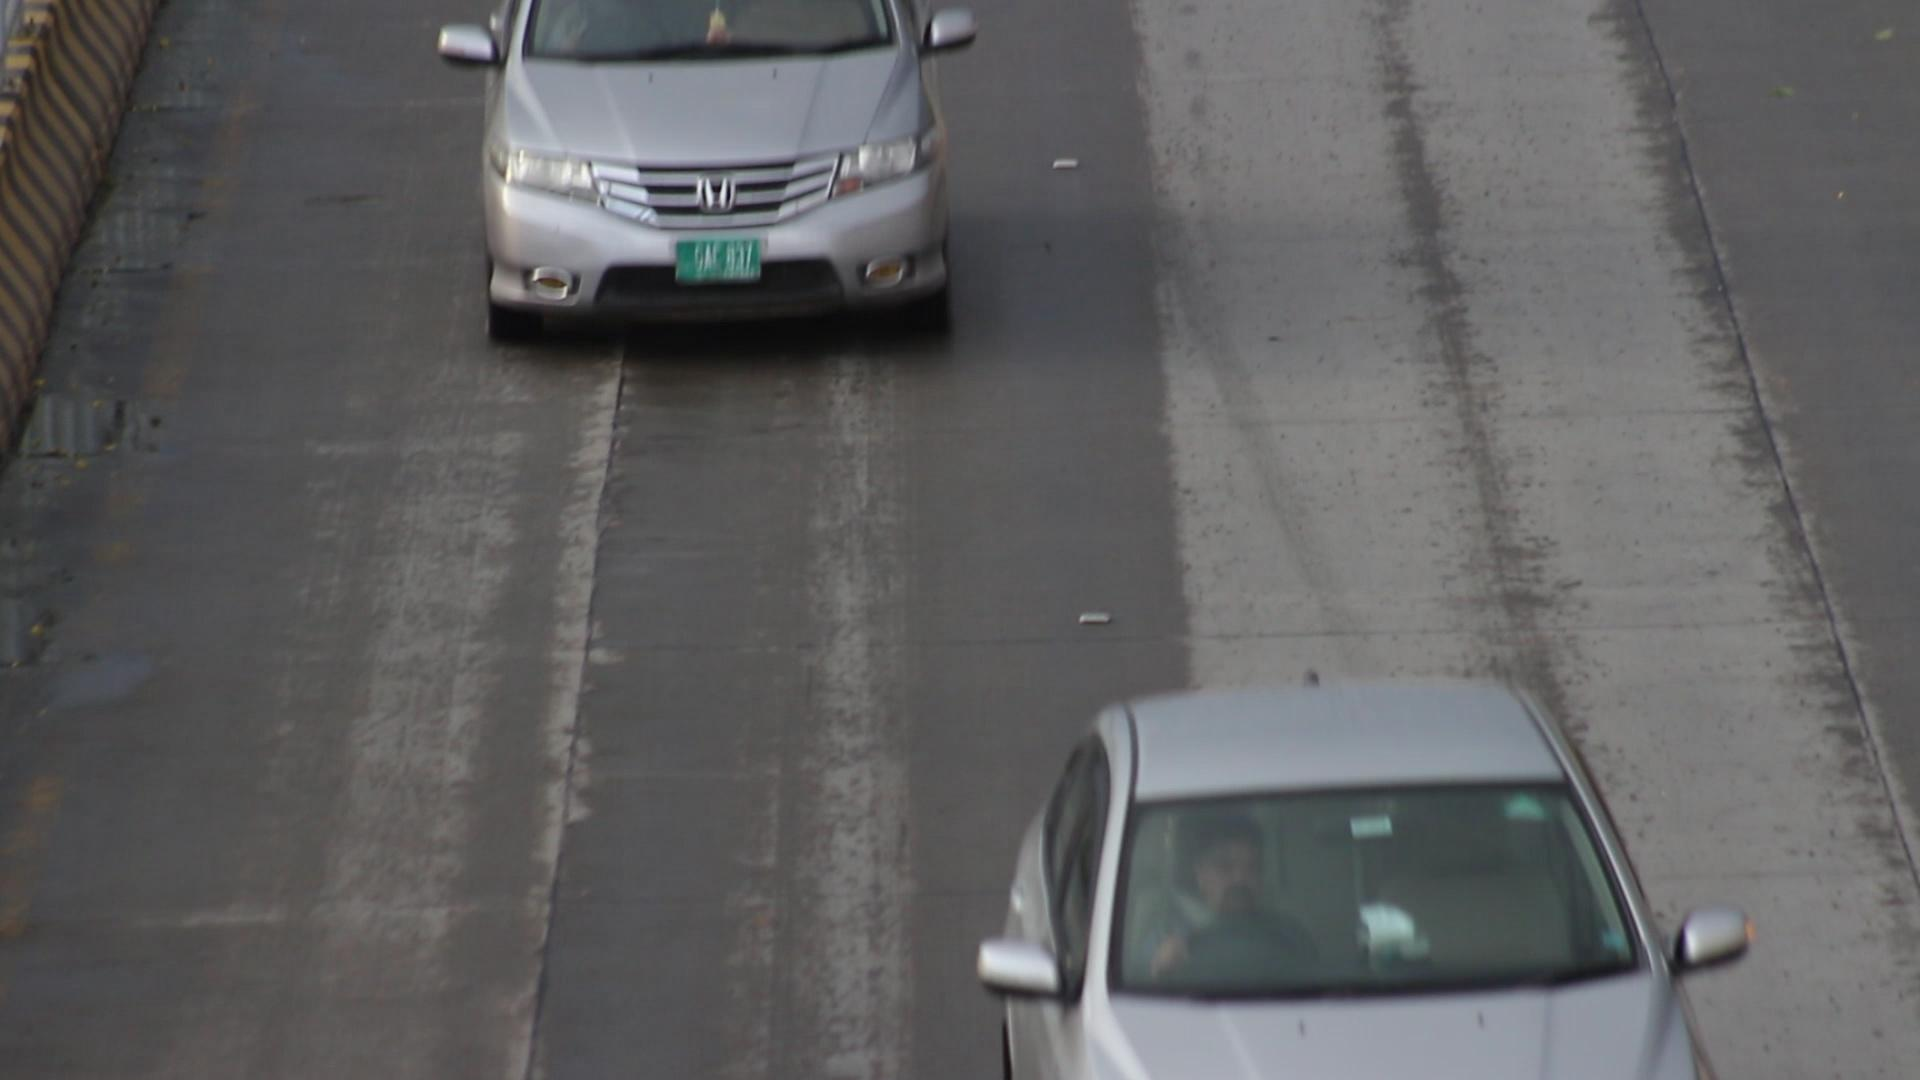windshield: (1108, 757, 1673, 1017)
